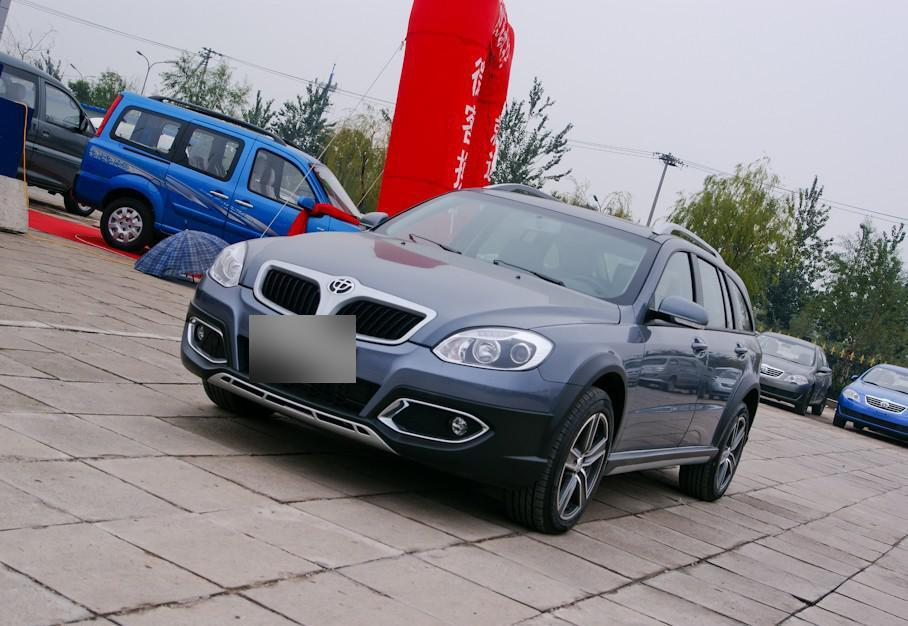Wagon: (182, 184, 764, 534)
